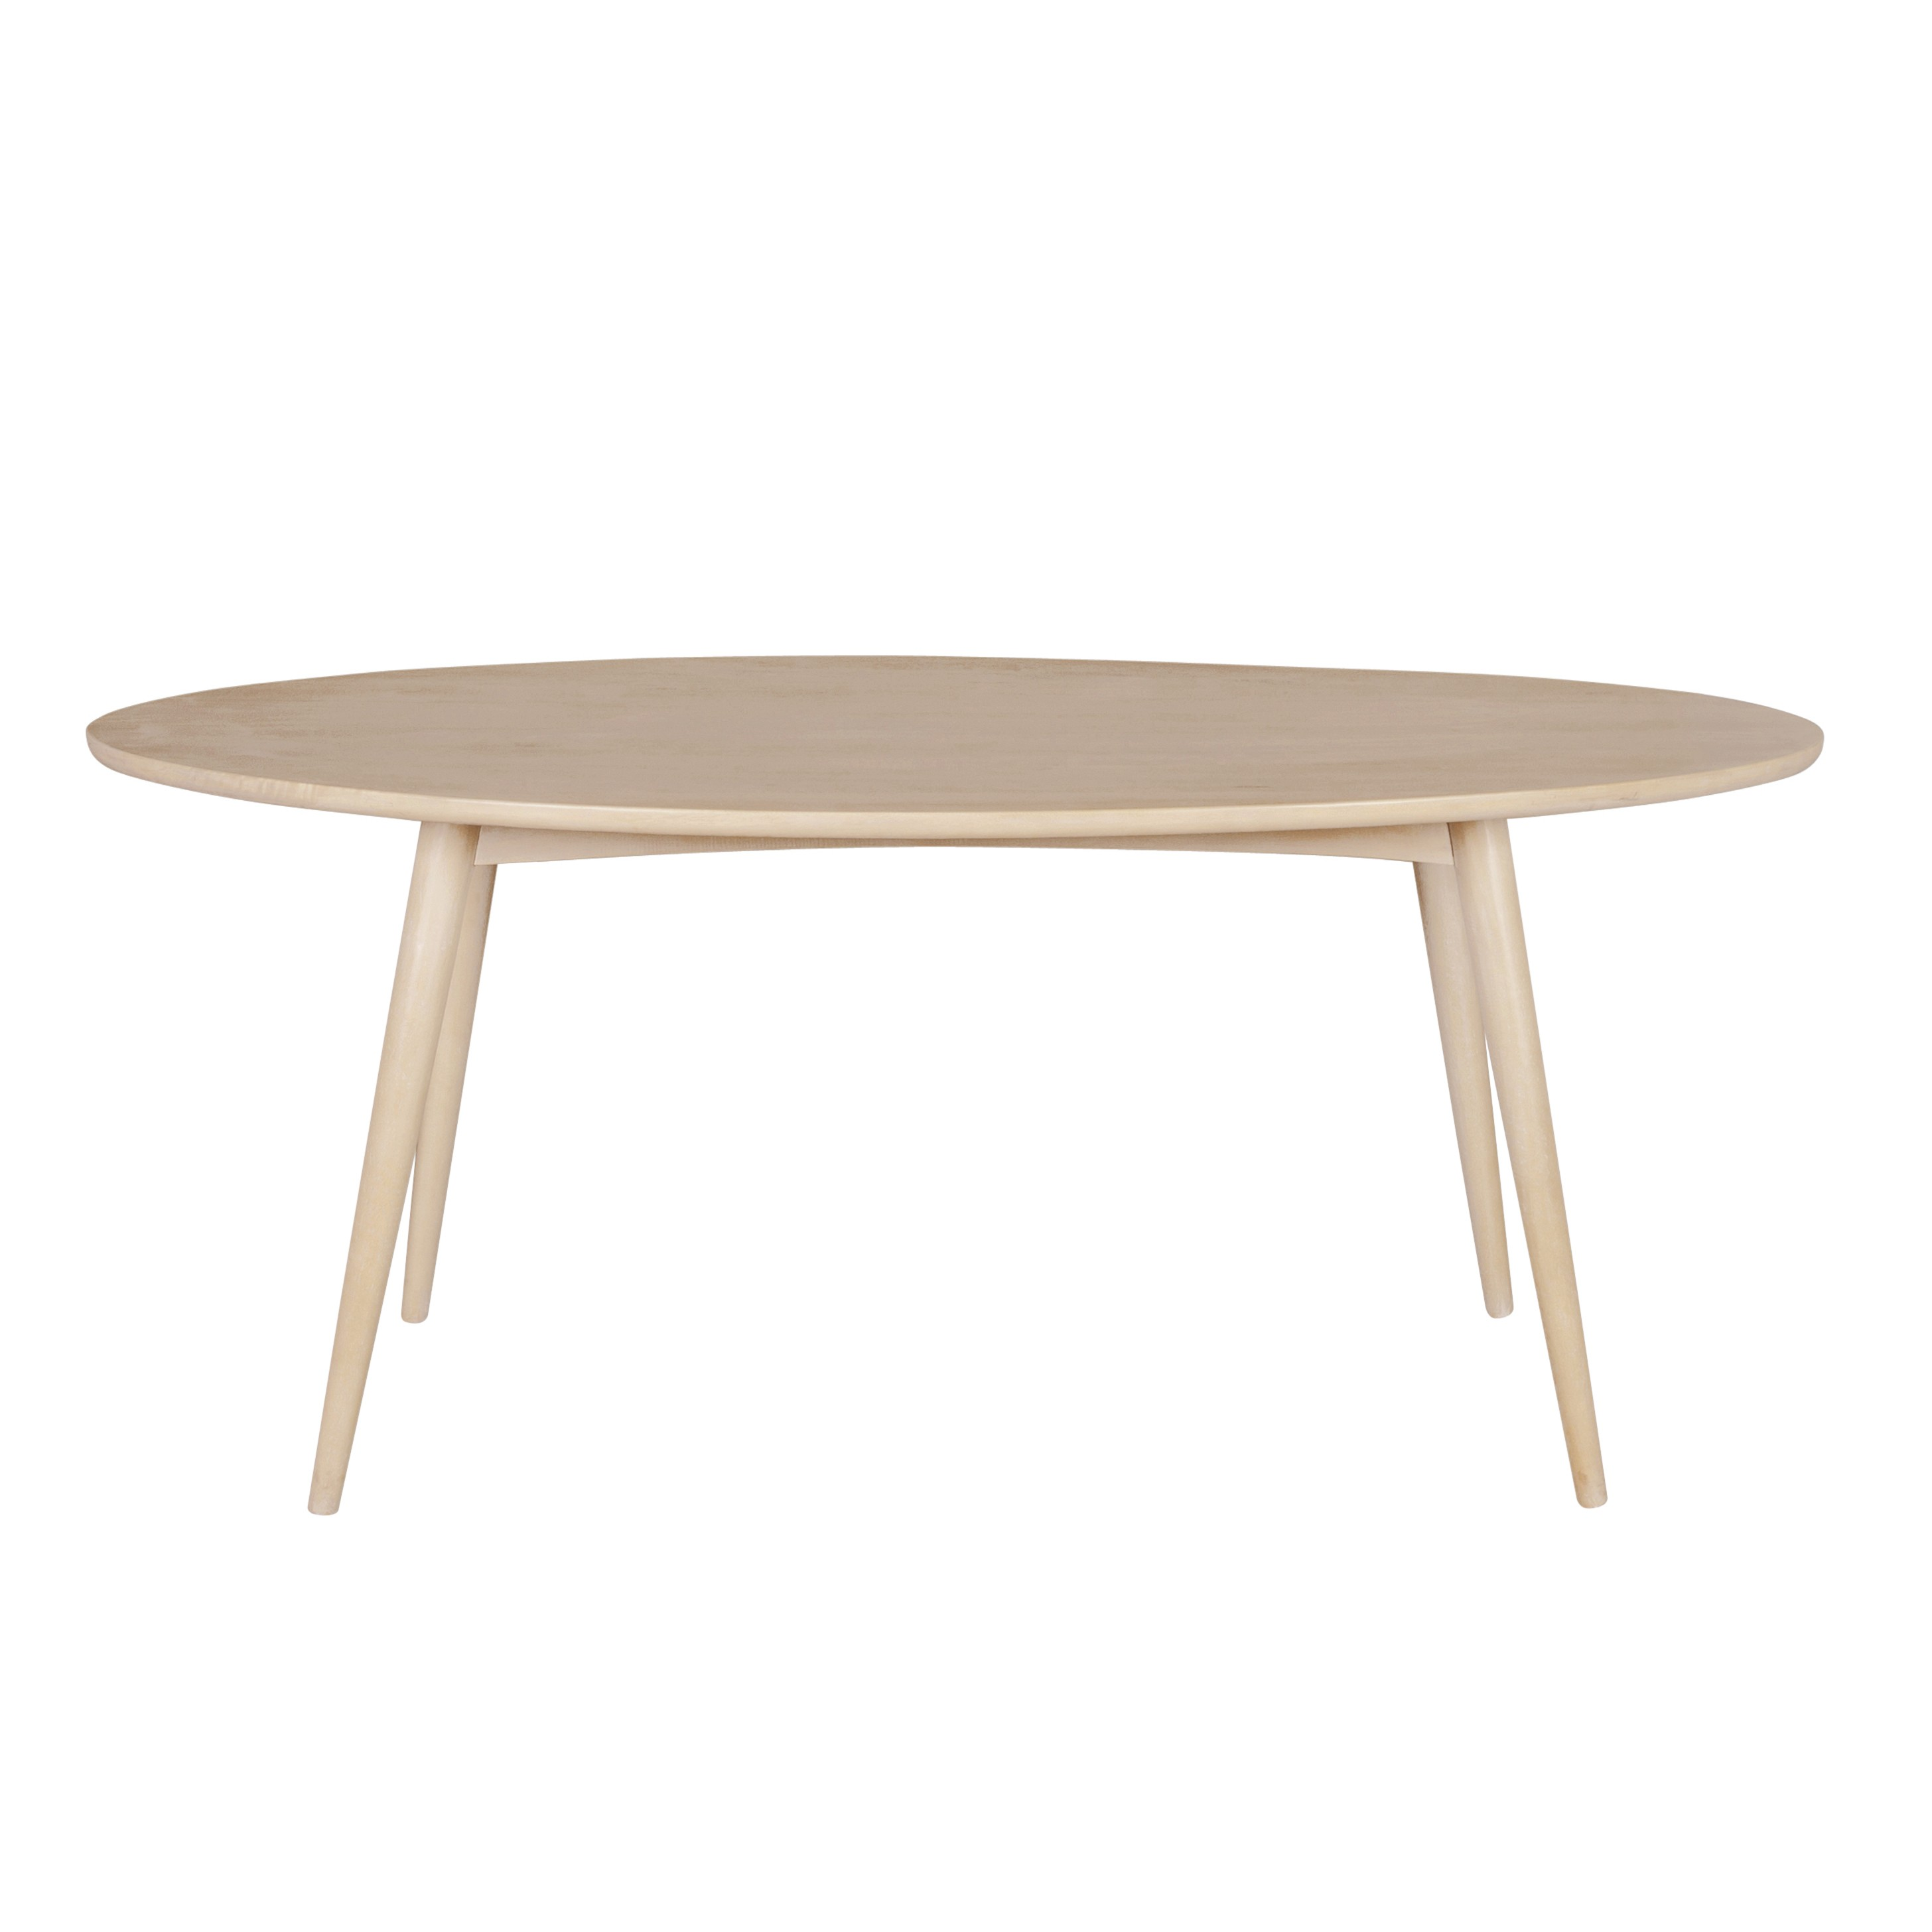Carving Table: (69, 625, 1810, 1605)
